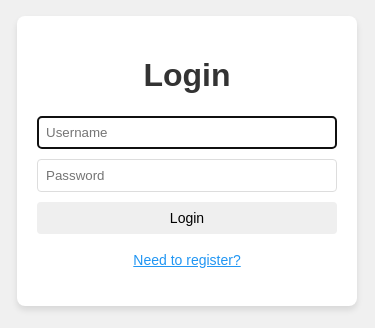
it: App Component › handles successful registration
Click the button "Need to register?". click: (187, 260)
box: [37,244,337,276]
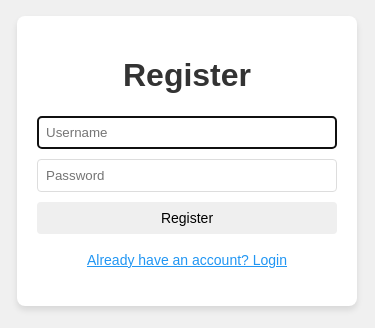
Type "newuser" into the field with placeholder "Username". click: (187, 132)
box: [37,116,337,149]
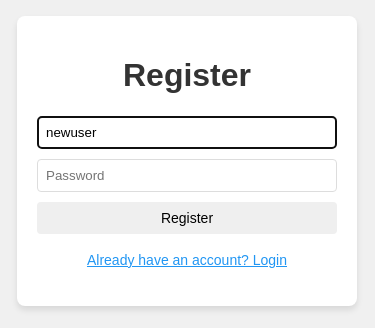
Type "newpass" into the password field with placeholder "Password". click: (187, 175)
box: [37,159,337,192]
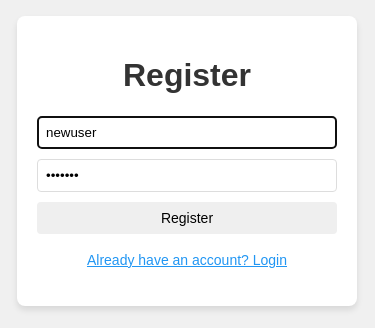
Click the button "Register". click: (187, 218)
box: [37,202,337,234]
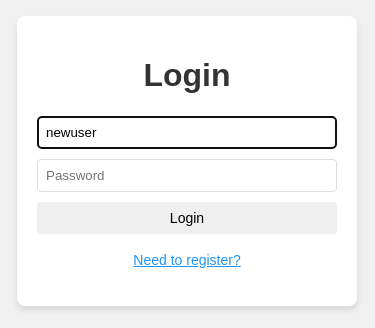
Expected: the heading "Login" is shown, [144,57,231,93]
